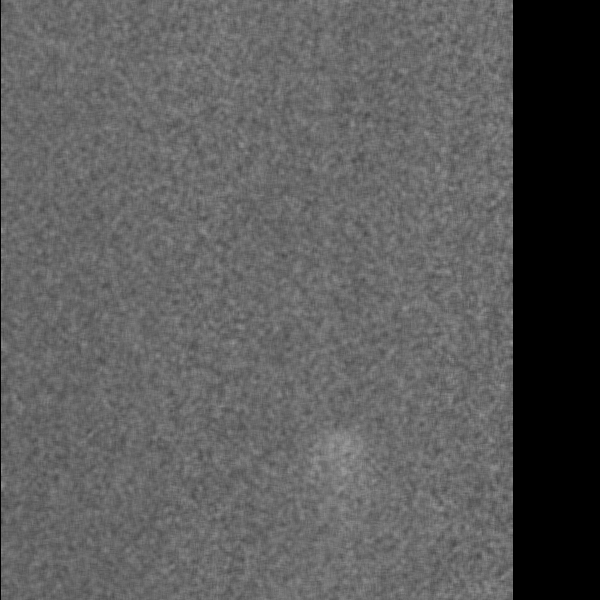spark: (308, 418, 354, 536)
